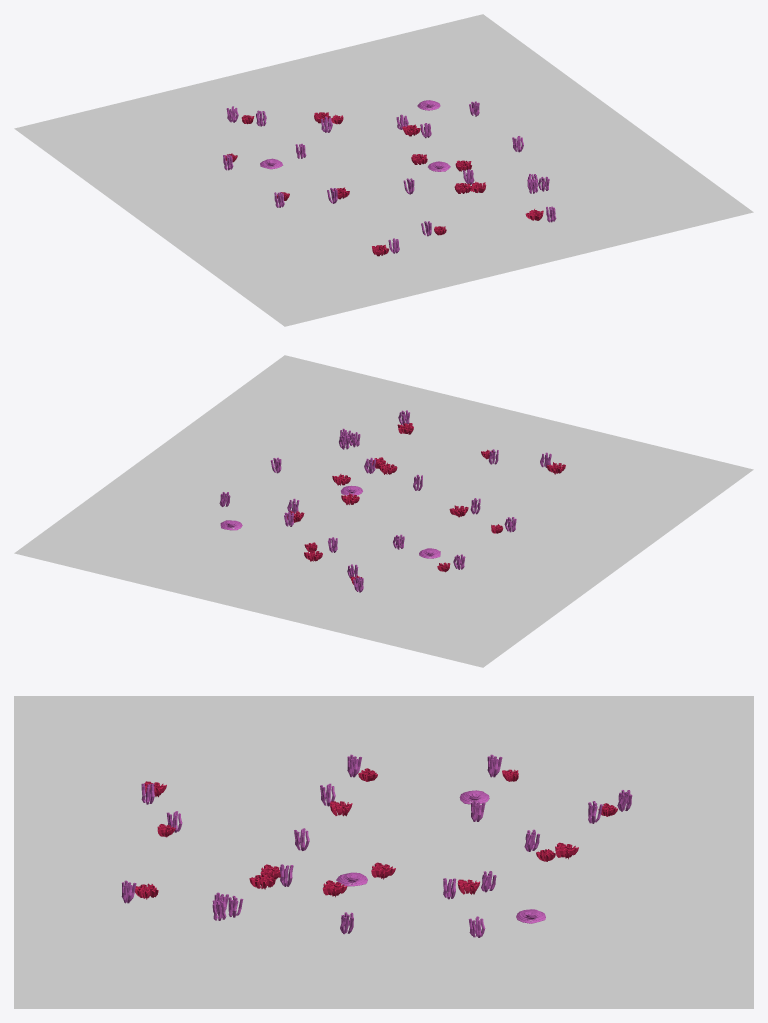
The model's file is tile5.fbx.
3 renders of one model, top to bottom at view 1: azimuth 30°, elevation 25°; view 2: azimuth 150°, elevation 25°; view 3: azimuth 270°, elevation 25°, orthographic. The views are drawn at different scales.
Visible parts, largest first — view 1: Tile5; view 2: Tile5; view 3: Tile5.
Boxes of the visible parts, x1,y1,x2,y2 form: Tile5: (14, 14, 753, 326); Tile5: (14, 355, 753, 667); Tile5: (14, 696, 753, 1008).
Bounding box in the file's own units: 5000 × 164 × 5000.
